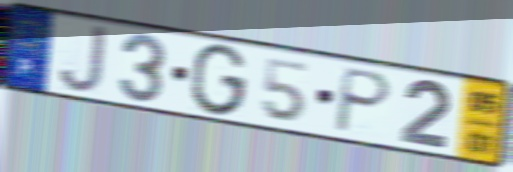2: (398, 77, 456, 154)
3: (116, 32, 167, 104)
5: (258, 54, 312, 124)
G: (187, 41, 251, 119)
J: (56, 23, 110, 96)
P: (330, 65, 395, 136)
